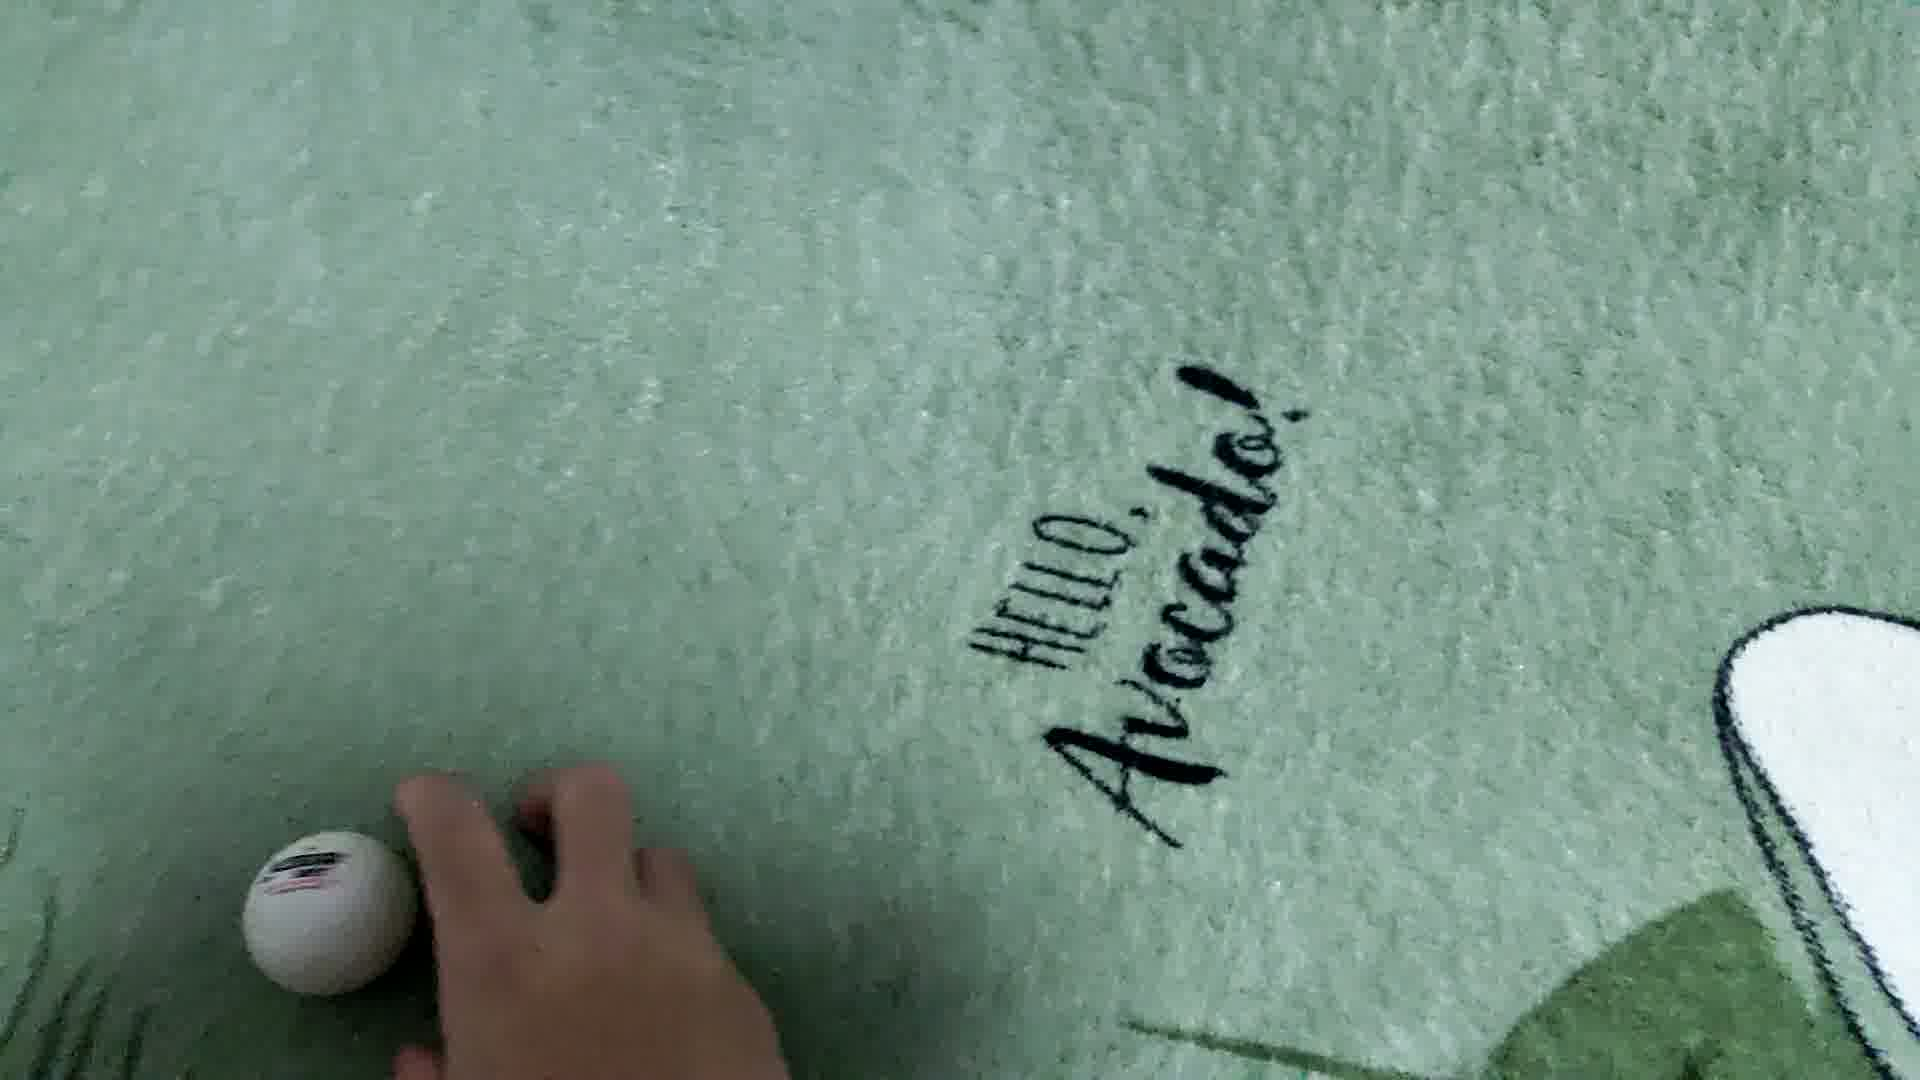Ball: (247, 829, 417, 1000)
